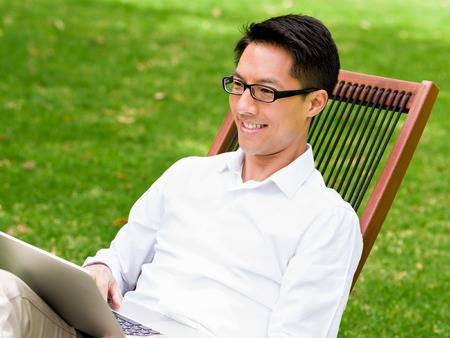F_shirt: (79, 141, 363, 338)
